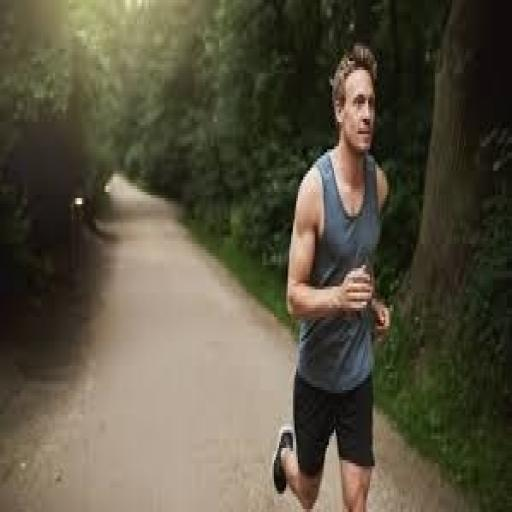running: (270, 40, 394, 509)
